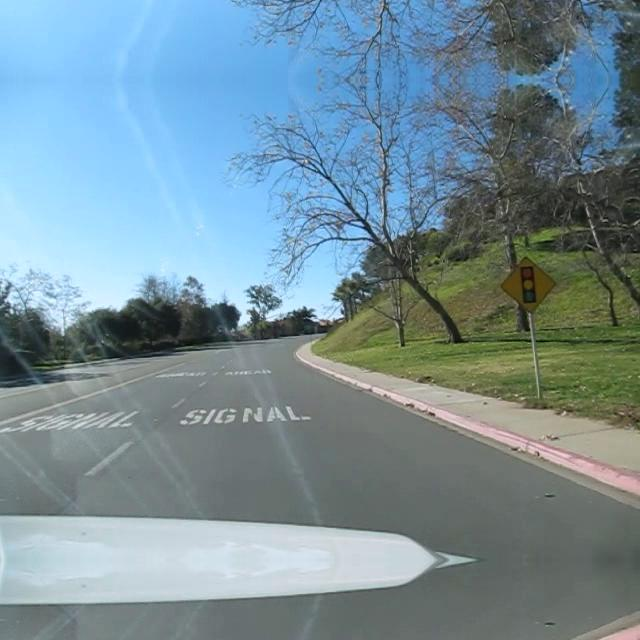signalAhead: (499, 254, 557, 314)
